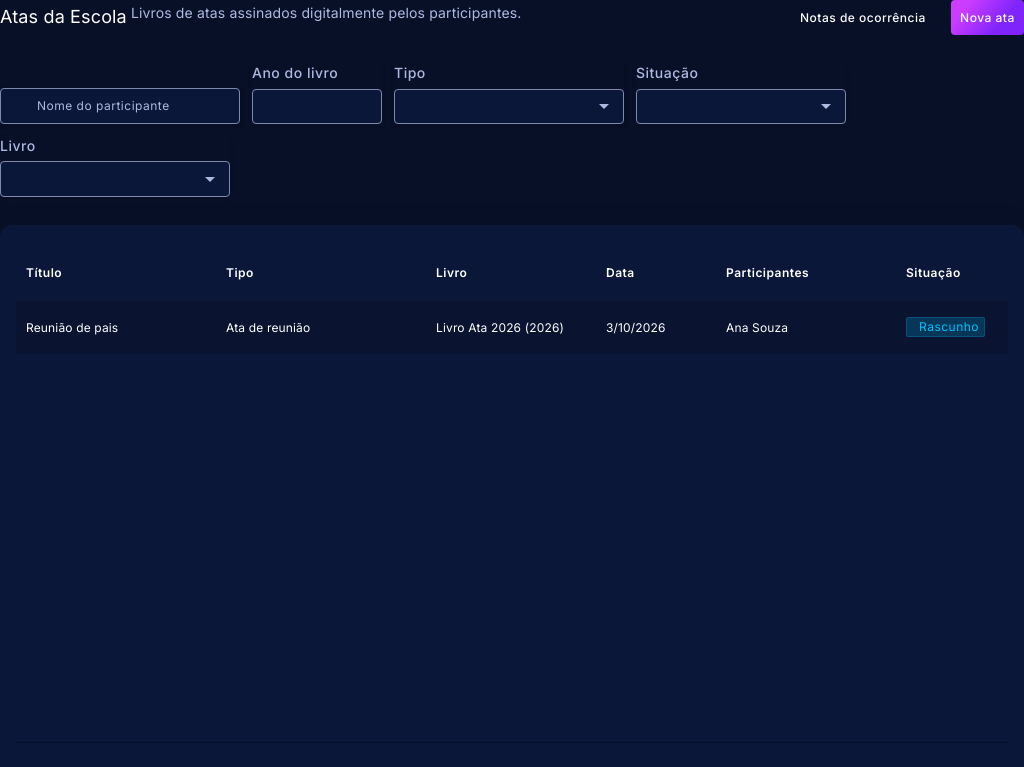
Test: SchoolMinutes page — "Nova ata" chooser and form › offers the three kinds of ata
The image size is (1024, 767).
Check: the text "Reunião de pais" is shown, box top-left (26, 320), bottom-right (118, 335)
Click the button "Nova ata". click: (987, 18)
box: top-left (951, 0), bottom-right (1023, 35)
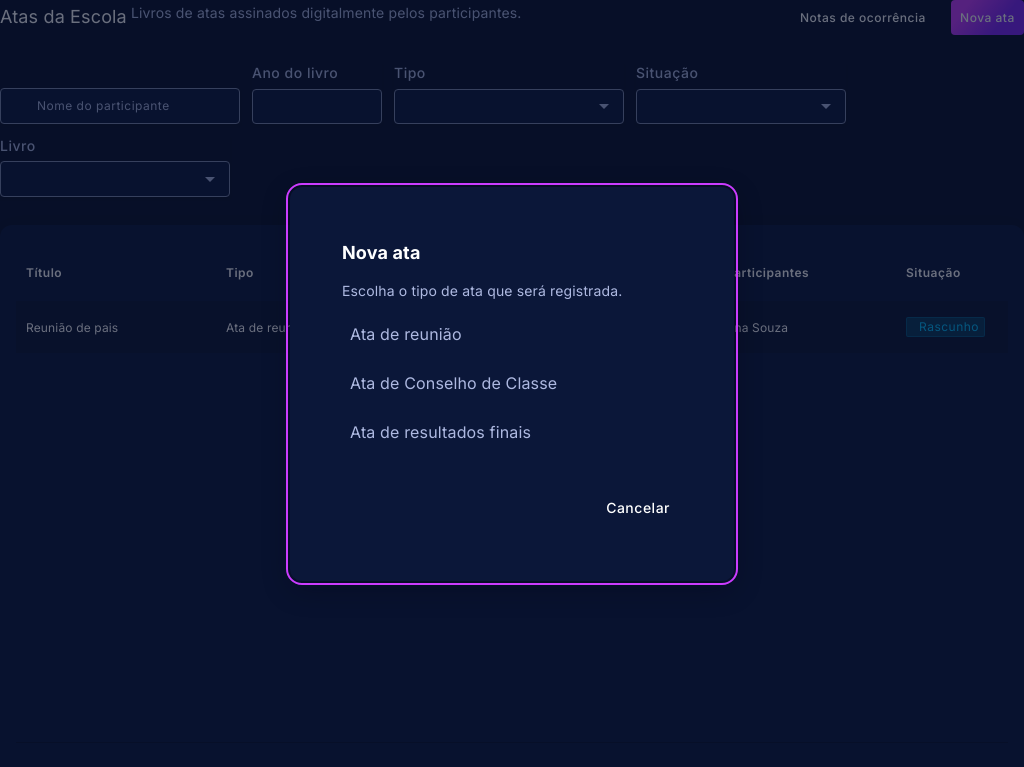
Check: the button "Ata de reunião" is shown, box top-left (350, 324), bottom-right (462, 344)
Check: the button "Ata de Conselho de Classe" is shown, box top-left (350, 373), bottom-right (557, 393)
Check: the button "Ata de resultados finais" is shown, box top-left (350, 422), bottom-right (531, 442)
